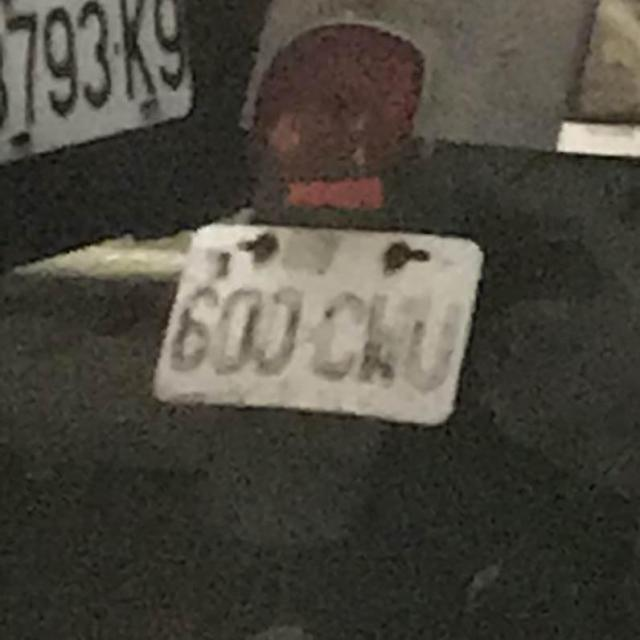W: (146, 220, 488, 430), (0, 0, 222, 191)
